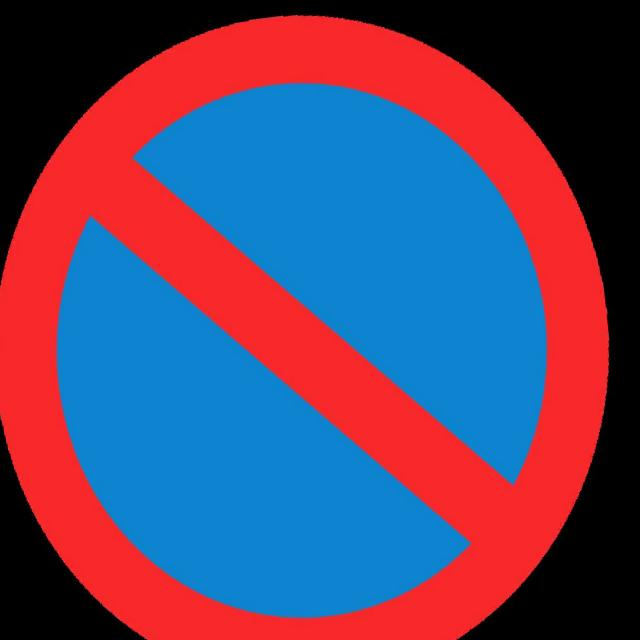forb_stopping: (0, 12, 609, 640)
